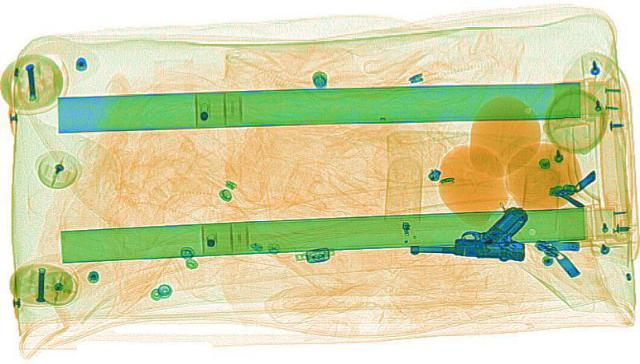Gun: (408, 204, 530, 260)
